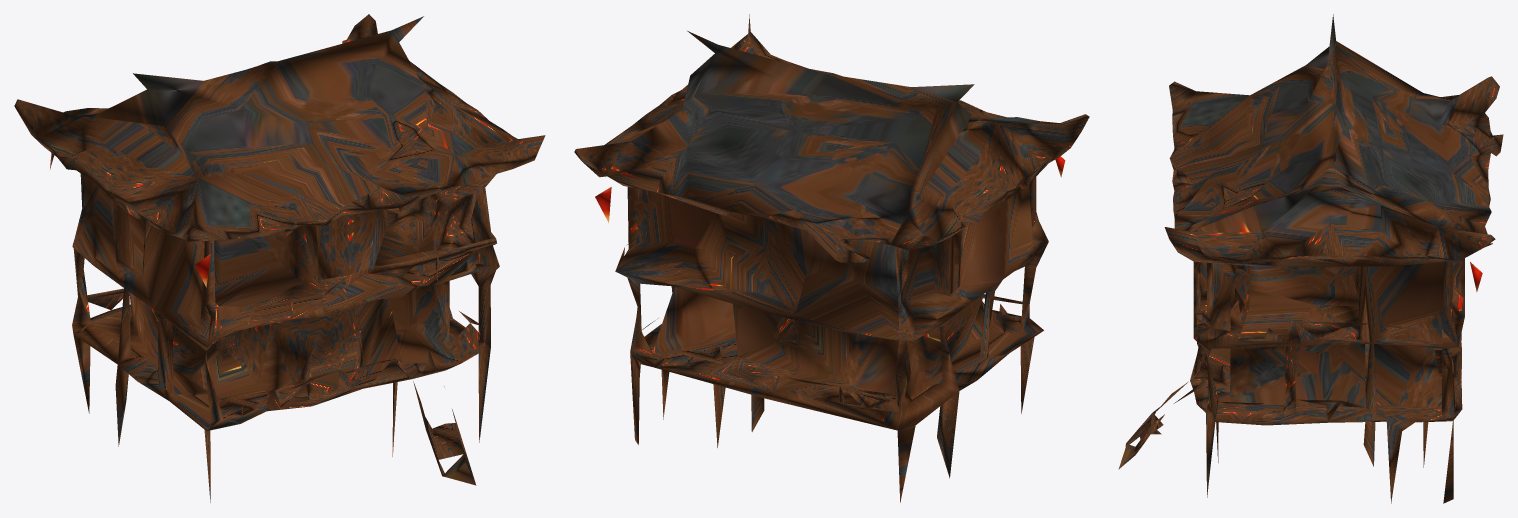
The model's file is h_stilt_far.glb.
The picture shows the model from 3 angles, left to right: view 1: azimuth 30°, elevation 25°; view 2: azimuth 150°, elevation 25°; view 3: azimuth 270°, elevation 25°; orthographic projection. The views are drawn at different scales.
Visible parts, largest first — view 1: tripo_node_cfc71d93-e7bf-4157-a4f8-b7eb0a034718; view 2: tripo_node_cfc71d93-e7bf-4157-a4f8-b7eb0a034718; view 3: tripo_node_cfc71d93-e7bf-4157-a4f8-b7eb0a034718.
Boxes of the visible parts, box(x1,y1,x2,y2) form: tripo_node_cfc71d93-e7bf-4157-a4f8-b7eb0a034718: box(14, 14, 545, 502); tripo_node_cfc71d93-e7bf-4157-a4f8-b7eb0a034718: box(574, 14, 1089, 502); tripo_node_cfc71d93-e7bf-4157-a4f8-b7eb0a034718: box(1118, 14, 1503, 503).
Bounding box in the file's own units: 0.9656 × 0.9902 × 0.958.
Materials: 1 (1 with a texture image).
